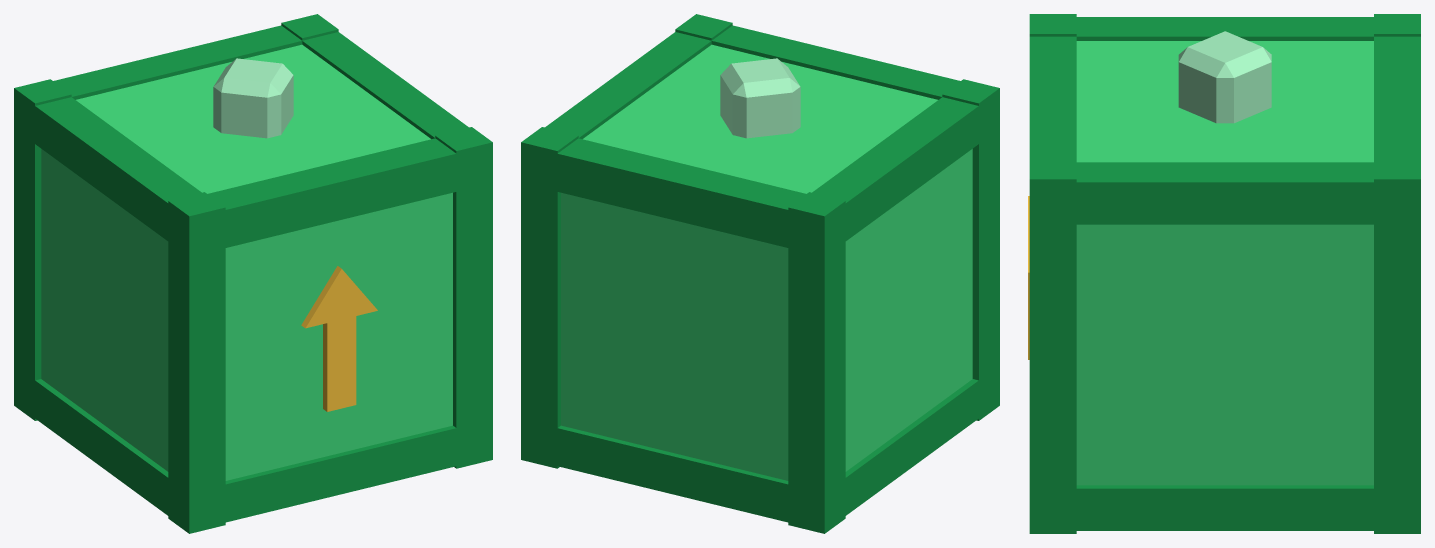
Rendered from EmeraldLootCrate.fbx.
3 renders of one model, left to right at view 1: azimuth 30°, elevation 25°; view 2: azimuth 150°, elevation 25°; view 3: azimuth 270°, elevation 25°, orthographic. The views are drawn at different scales.
Visible parts, largest first — view 1: EmeraldLootCrate; view 2: EmeraldLootCrate; view 3: EmeraldLootCrate.
Boxes of the visible parts, x1,y1,x2,y2 form: EmeraldLootCrate: (14, 14, 492, 533); EmeraldLootCrate: (521, 14, 999, 533); EmeraldLootCrate: (1028, 14, 1420, 533).
Size of the model in its own units: 2.5 by 2.85 by 2.51.
Materials: 1 (1 with a texture image).
